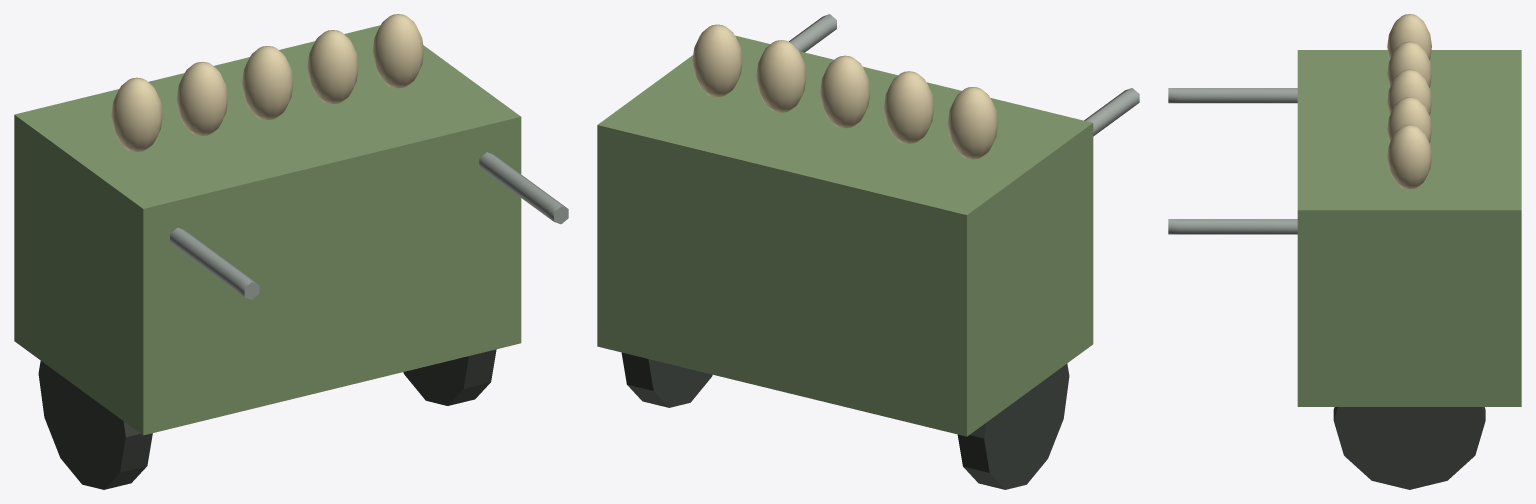
The model's file is zoo-and-safari-park-builder-souvenir-cart-ccca2229__21506.glb.
3 renders of one model, left to right at view 1: azimuth 30°, elevation 25°; view 2: azimuth 150°, elevation 25°; view 3: azimuth 270°, elevation 25°, orthographic. The views are drawn at different scales.
Parts seen in each view (by area): view 1: souvenir-cart; view 2: souvenir-cart; view 3: souvenir-cart.
Part boxes in pixels (x1,y1,x2,y2): souvenir-cart: (14,14,568,489); souvenir-cart: (597,14,1139,489); souvenir-cart: (1168,14,1521,489).
Size of the model in its own units: 1.1 by 1.09 by 1.02.
